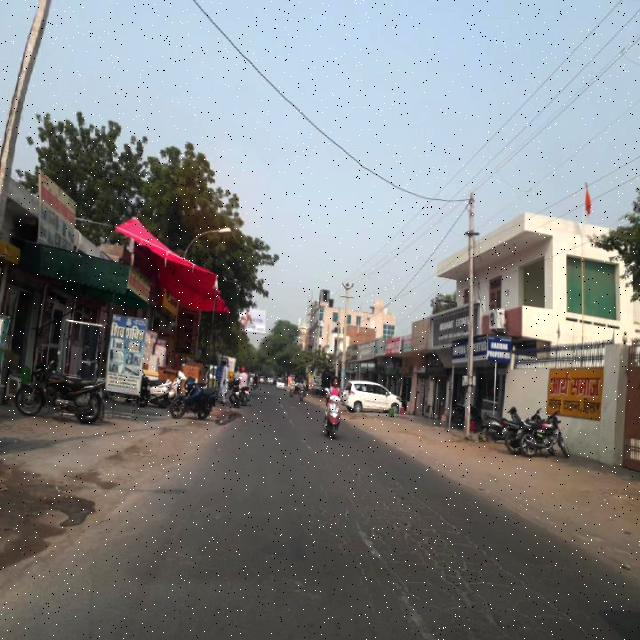D20: (304, 468, 508, 580), (402, 584, 618, 639)
D44: (341, 504, 423, 631)
